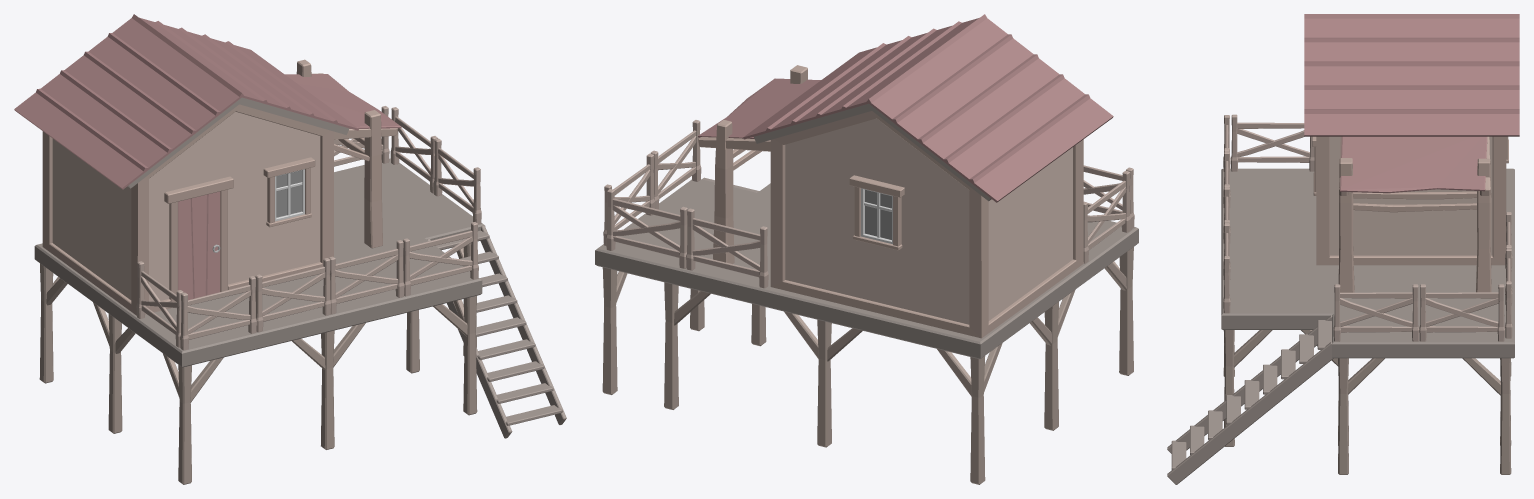
The model's file is fp_cabana_l3.glb.
3 renders of one model, left to right at view 1: azimuth 30°, elevation 25°; view 2: azimuth 150°, elevation 25°; view 3: azimuth 270°, elevation 25°, orthographic. The views are drawn at different scales.
Bounding box in the file's own units: 0.95 × 0.8356 × 0.771.
